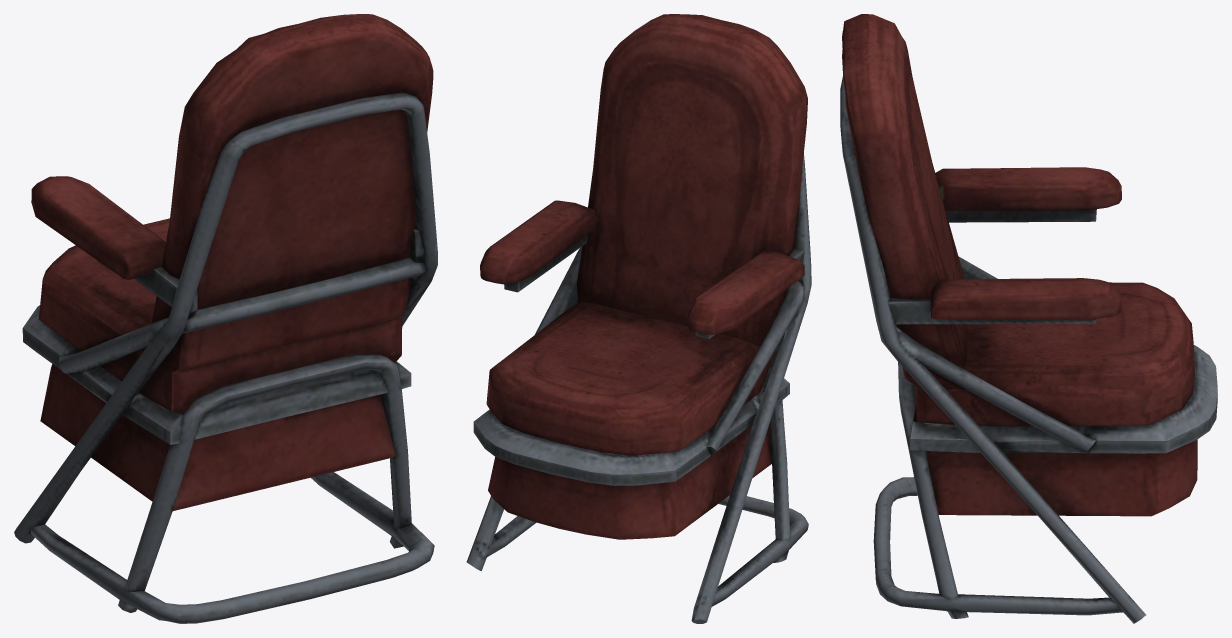
The model's file is plane_intro_seat.dae.
3 views of the same model, side by side, from view 1: azimuth 30°, elevation 25°; view 2: azimuth 150°, elevation 25°; view 3: azimuth 270°, elevation 25° (orthographic). The views are drawn at different scales.
Parts seen in each view (by area): view 1: plane_intro_seat; view 2: plane_intro_seat; view 3: plane_intro_seat.
Part boxes in pixels (bbox=[...]): plane_intro_seat: bbox=[14, 14, 437, 623]; plane_intro_seat: bbox=[466, 14, 811, 623]; plane_intro_seat: bbox=[840, 14, 1217, 623].
Bounding box in the file's own units: 83.36 × 153 × 98.72.
